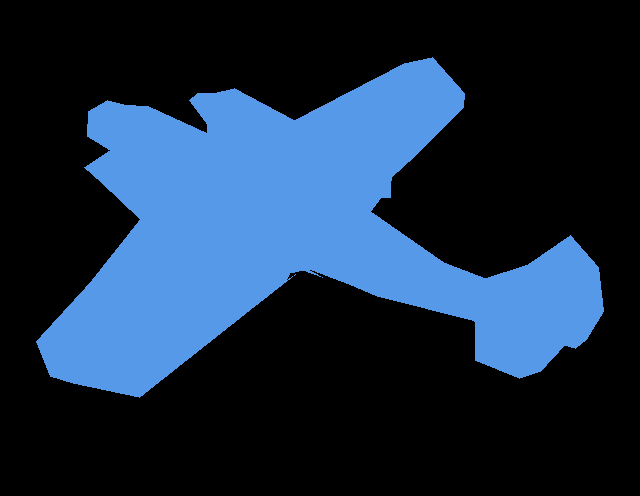Airplane: (36, 57, 603, 398)
